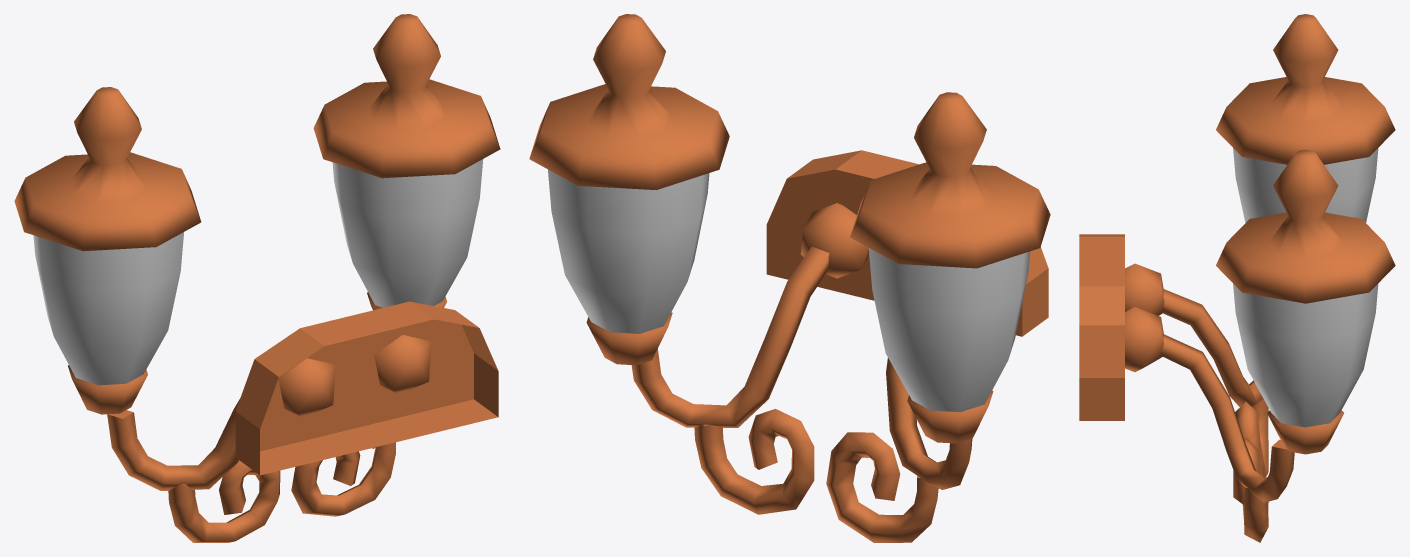
File: Wall_Light_geo.fbx
The picture shows the model from 3 angles, left to right: view 1: azimuth 30°, elevation 25°; view 2: azimuth 150°, elevation 25°; view 3: azimuth 270°, elevation 25°; orthographic projection. The views are drawn at different scales.
Visible parts, largest first — view 1: Wall_Light_geo; view 2: Wall_Light_geo; view 3: Wall_Light_geo.
Boxes of the visible parts, left/top/right/bottom form: Wall_Light_geo: left=14, top=14, right=500, bottom=542; Wall_Light_geo: left=529, top=14, right=1050, bottom=542; Wall_Light_geo: left=1079, top=14, right=1395, bottom=542.
Bounding box in the file's own units: 0.7456 × 0.471 × 0.6971.
